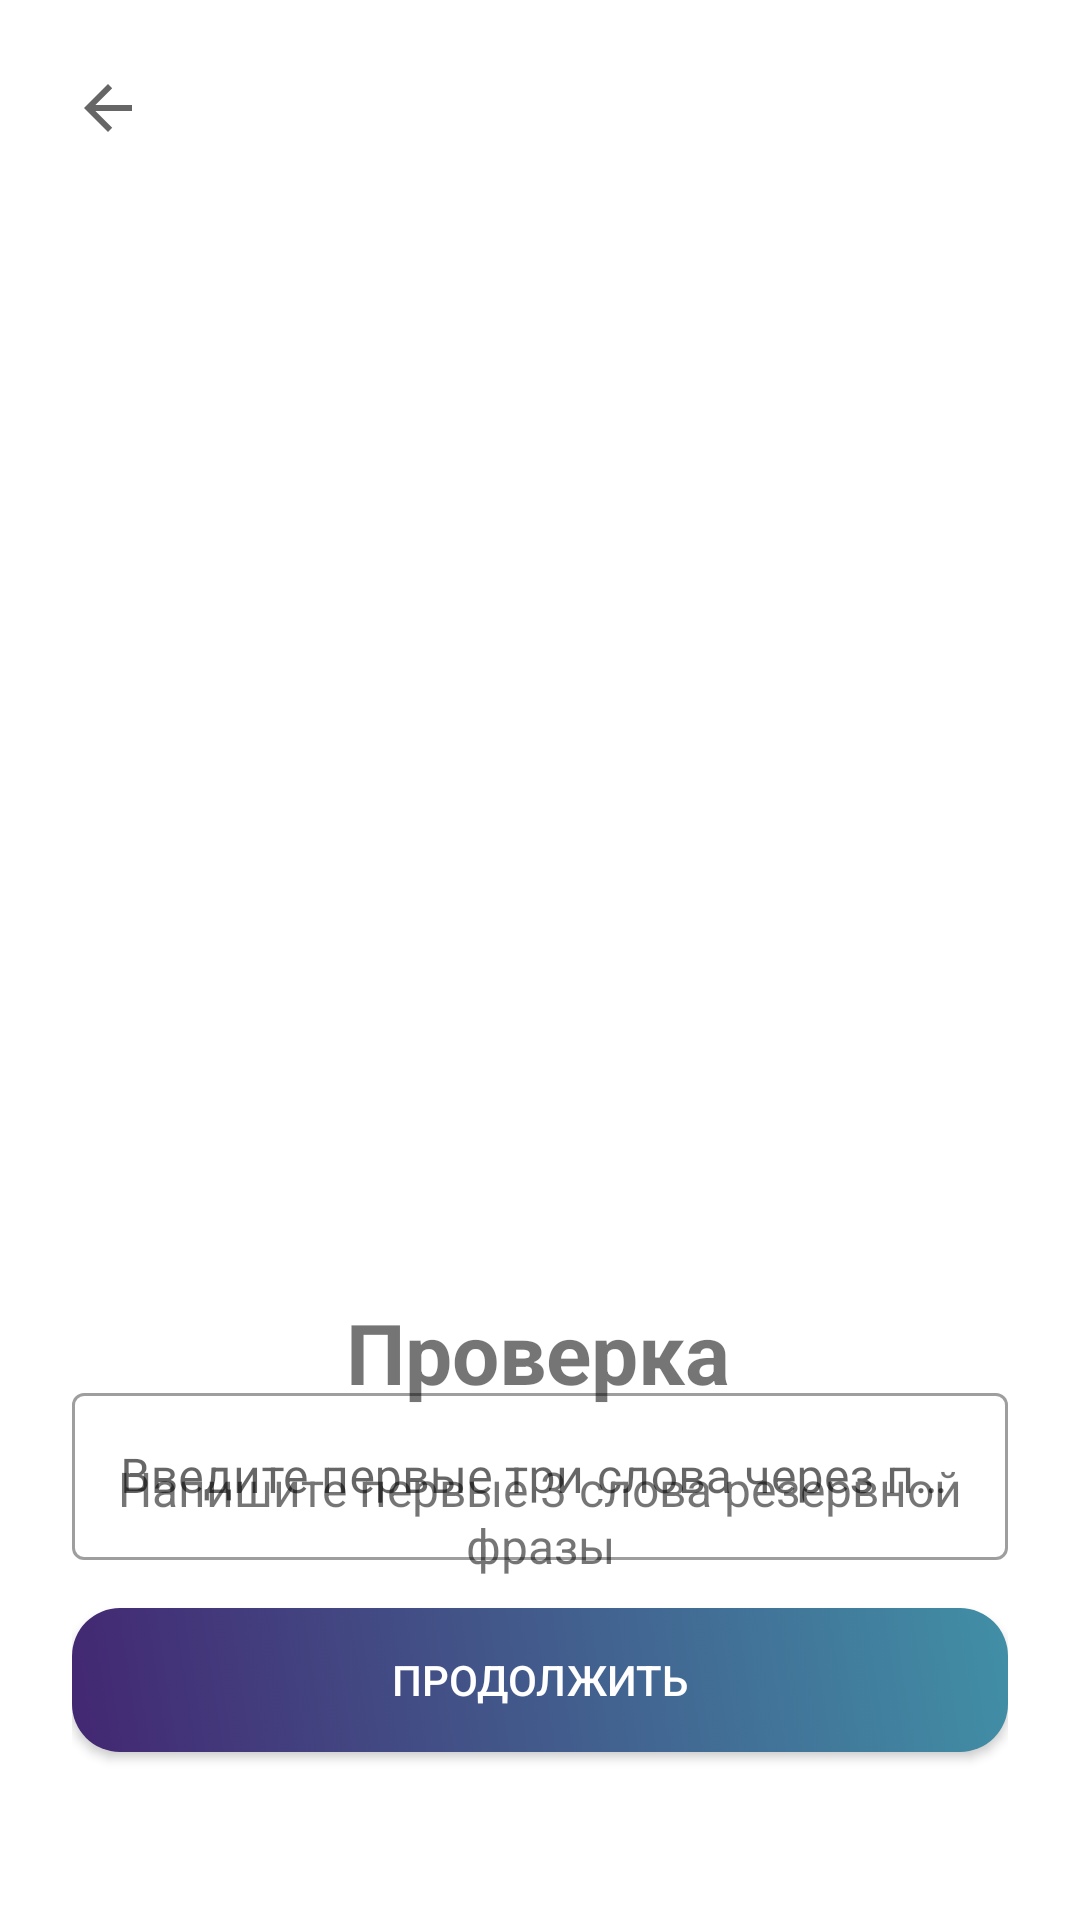

Icons on this 1080*1920 Android screen, each with the point to tap as (x,y):
Назад: (108,108)
